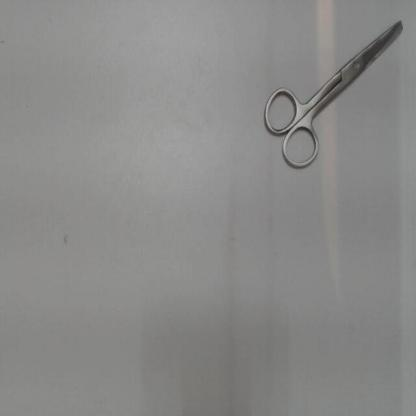Dressing Scissors: (255, 13, 411, 179)
